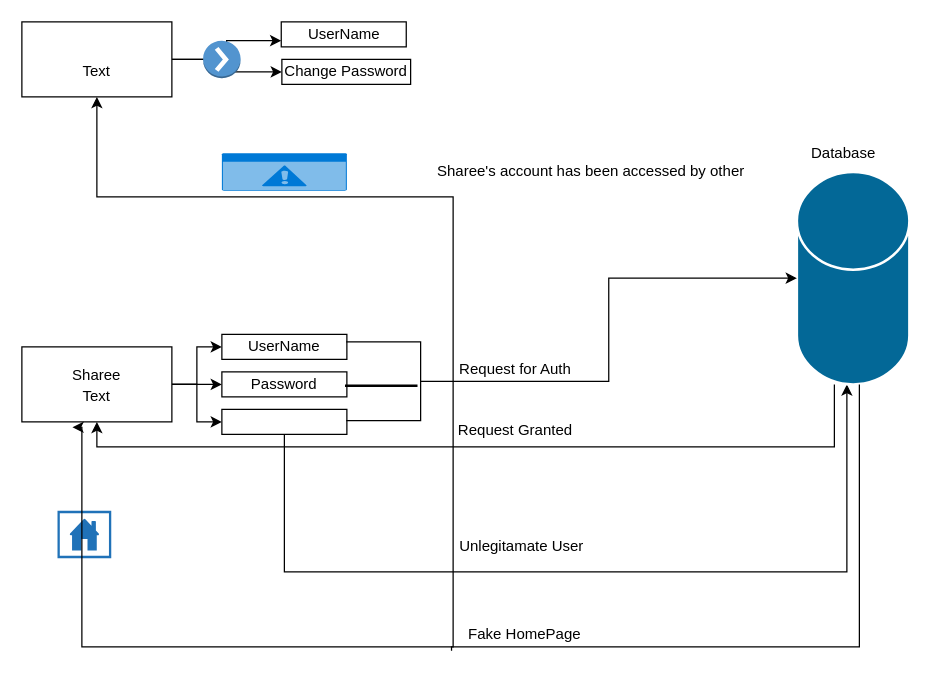
Some shapes in this 933 by 684 pixel diagram are drawn without their labels. Each missing label, with the box of its shape:
Alert Password: (221, 408, 347, 434)
Sharer: (21, 21, 172, 97)
Warning: (221, 152, 346, 190)
